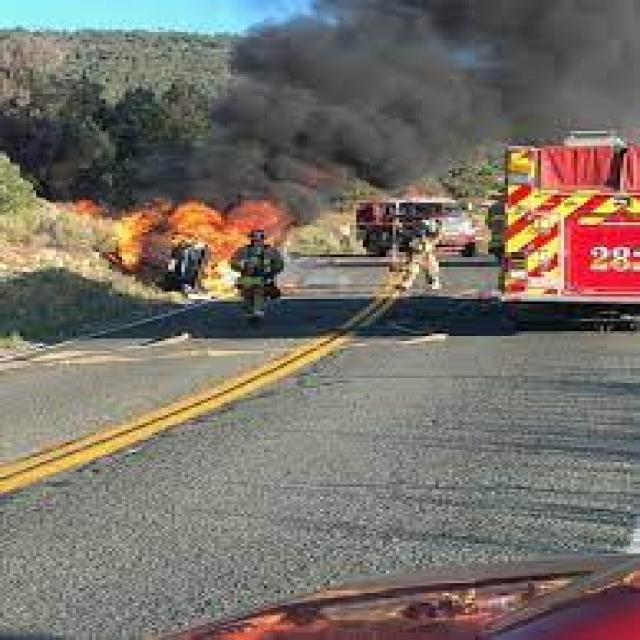fire: (66, 195, 290, 232), (204, 232, 241, 302), (105, 232, 138, 284)
smoke: (126, 2, 502, 198), (498, 2, 640, 138)
